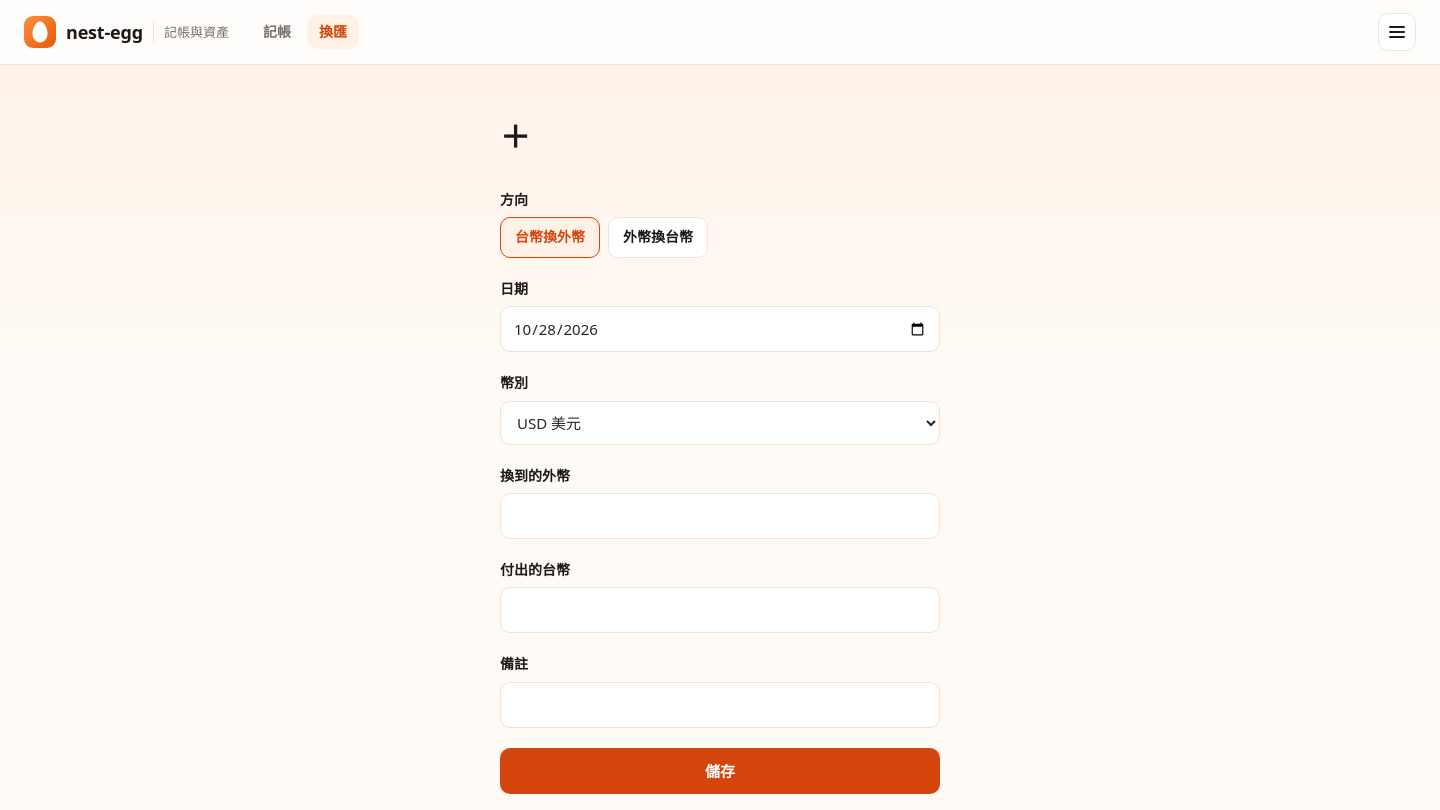
Test: recording a trade › shows a general error when saving fails for another reason
Type "1000" into the field labelled "換到的外幣". click: (720, 516)
box: [500,493,940,539]
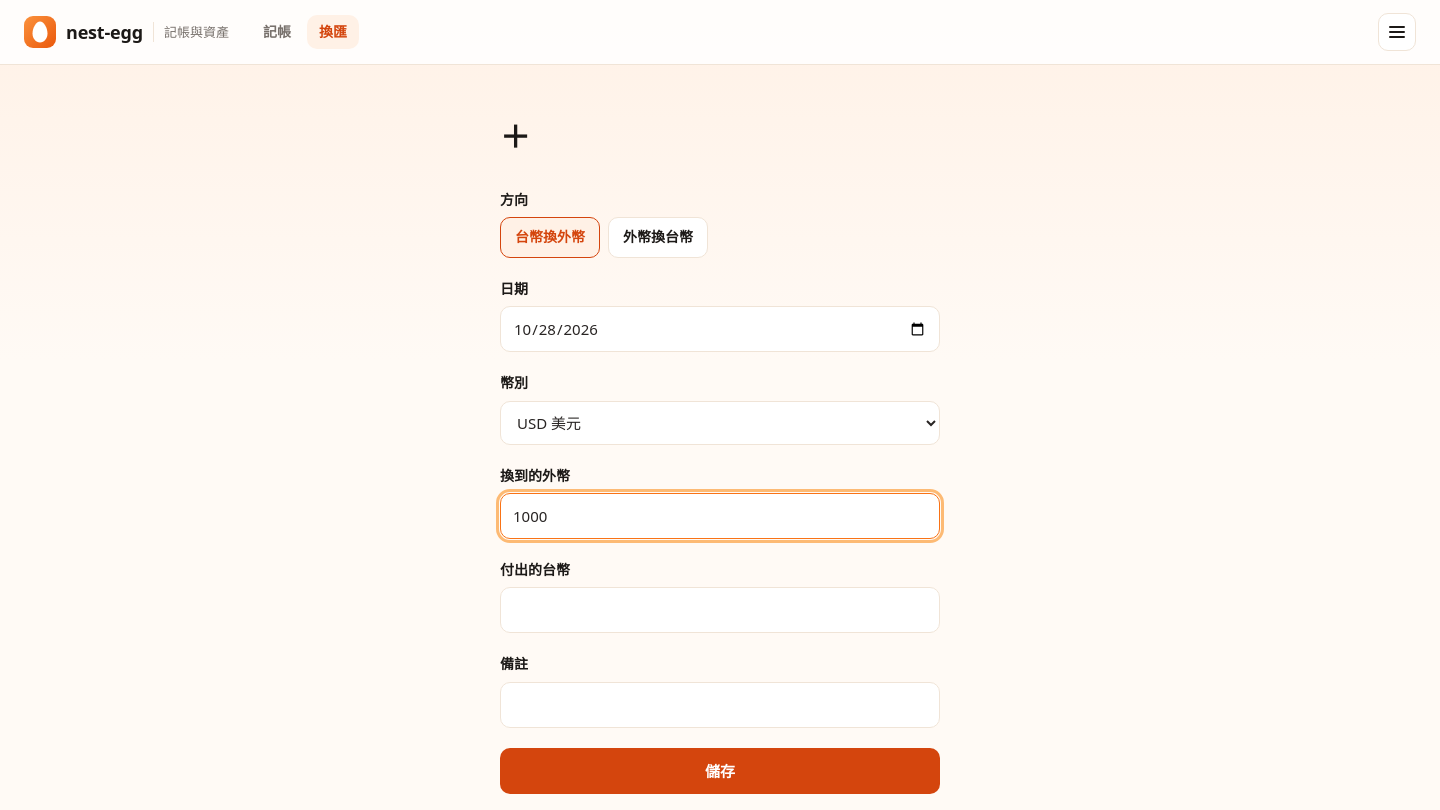
Type "32420" into the field labelled "付出的台幣". click: (720, 610)
box: [500,587,940,633]
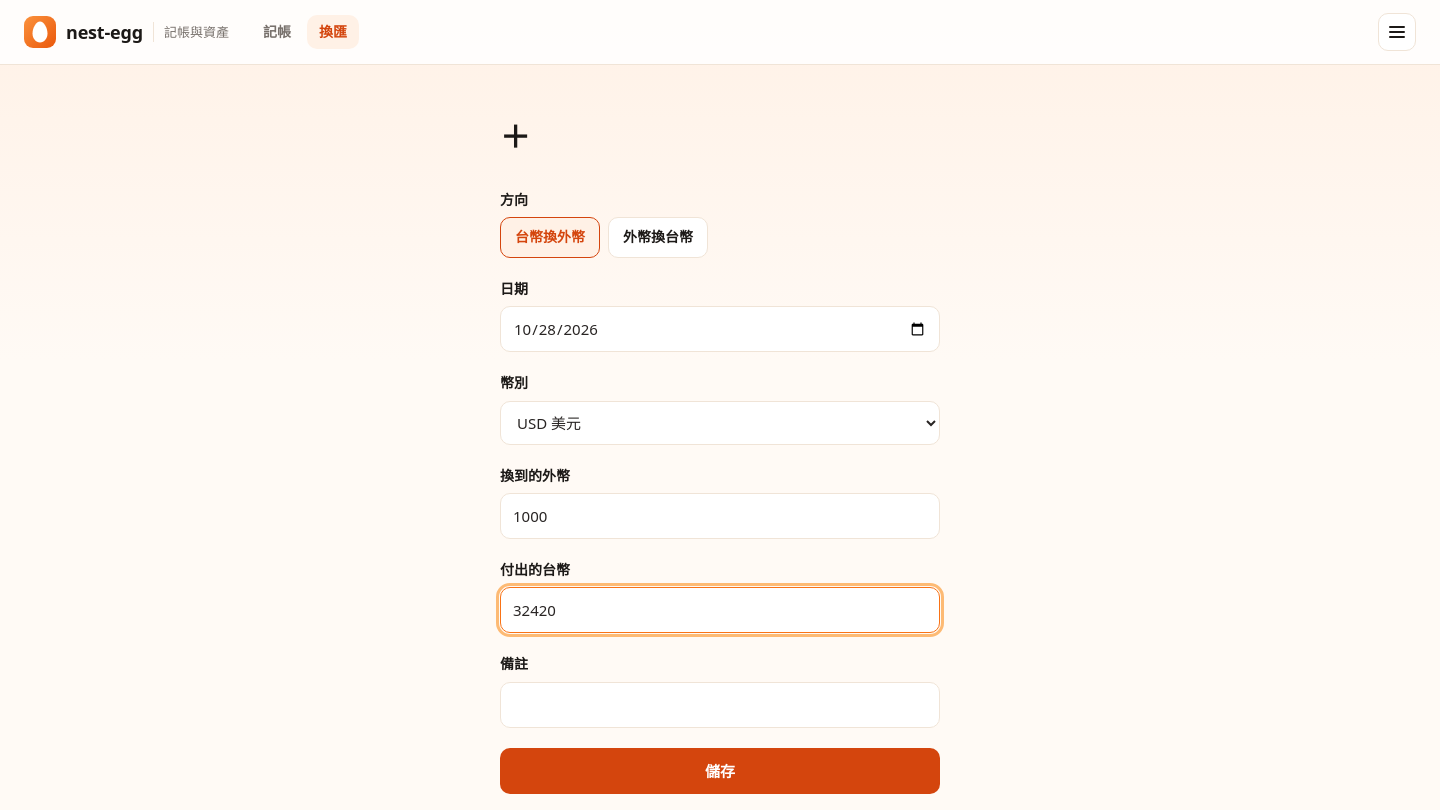
Click the button "儲存". click: (720, 771)
box: [500,748,940,794]
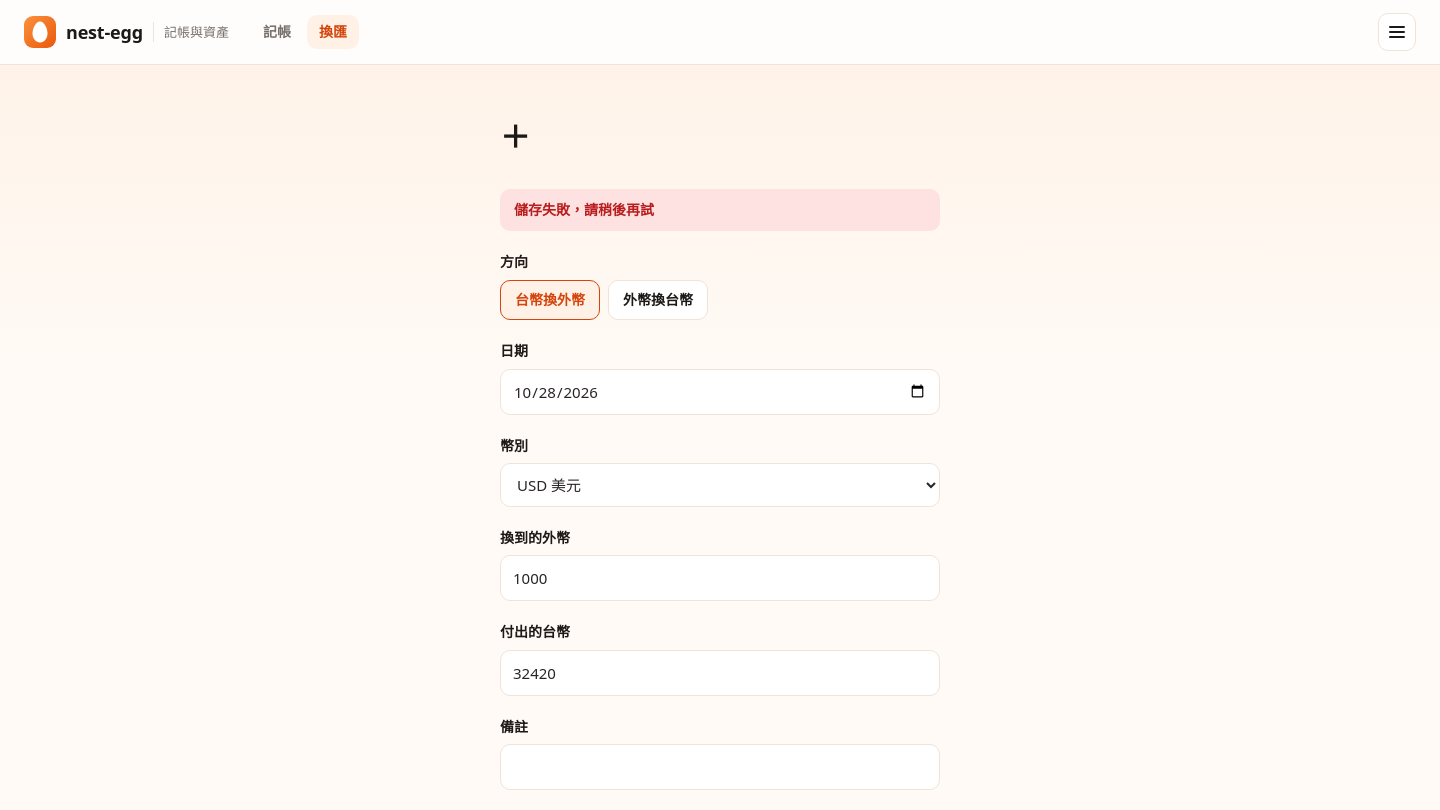
Result: the text "儲存失敗，請稍後再試" is shown at [500,189,940,231]
